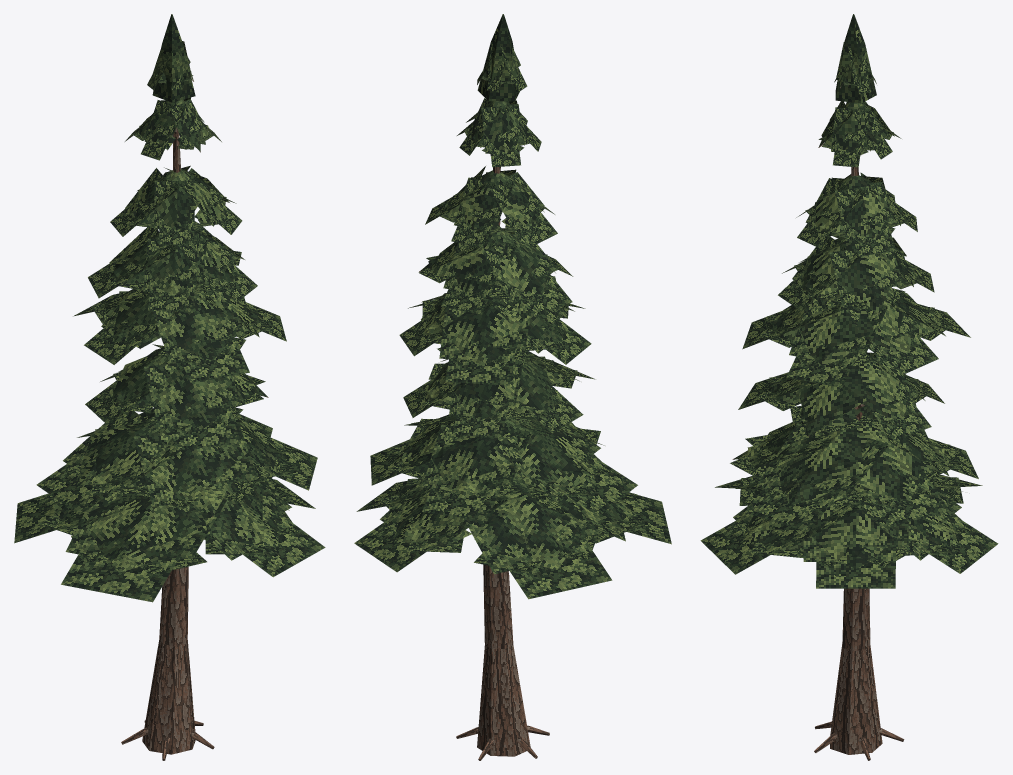
Rendered from TREE_Pine_B.glb.
The picture shows the model from 3 angles, left to right: view 1: azimuth 30°, elevation 25°; view 2: azimuth 150°, elevation 25°; view 3: azimuth 270°, elevation 25°; orthographic projection.
Visible parts, largest first — view 1: TREE_Pine_B__Card, TREE_Pine_B__Foliage, TREE_Pine_B__Bark; view 2: TREE_Pine_B__Card, TREE_Pine_B__Foliage, TREE_Pine_B__Bark; view 3: TREE_Pine_B__Card, TREE_Pine_B__Foliage, TREE_Pine_B__Bark.
Part boxes in pixels (bbox=[...]): TREE_Pine_B__Card: bbox=[14, 41, 325, 602]; TREE_Pine_B__Foliage: bbox=[44, 14, 288, 572]; TREE_Pine_B__Bark: bbox=[121, 78, 268, 760]; TREE_Pine_B__Card: bbox=[354, 42, 671, 599]; TREE_Pine_B__Foliage: bbox=[393, 14, 636, 569]; TREE_Pine_B__Bark: bbox=[419, 80, 549, 760]; TREE_Pine_B__Card: bbox=[700, 42, 998, 588]; TREE_Pine_B__Foliage: bbox=[734, 14, 957, 568]; TREE_Pine_B__Bark: bbox=[732, 79, 904, 760].
Bounding box in the file's own units: 5.66 × 14.85 × 5.49.
Materials: 3 (3 with a texture image).
